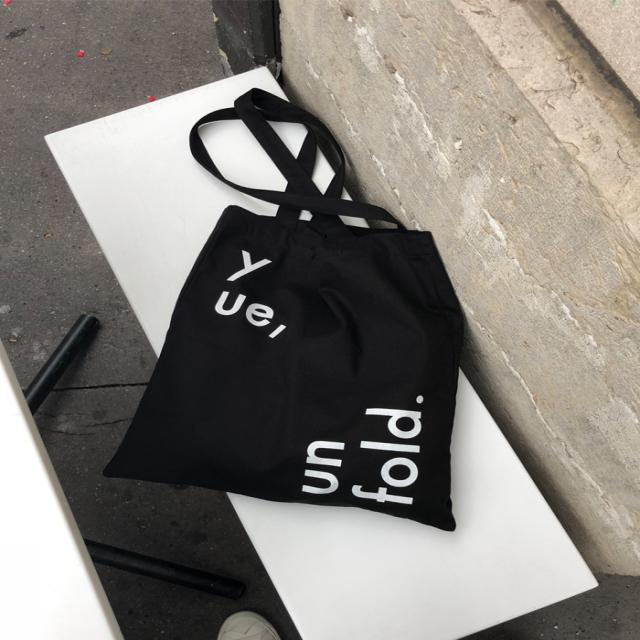ecobag: (91, 90, 490, 550)
